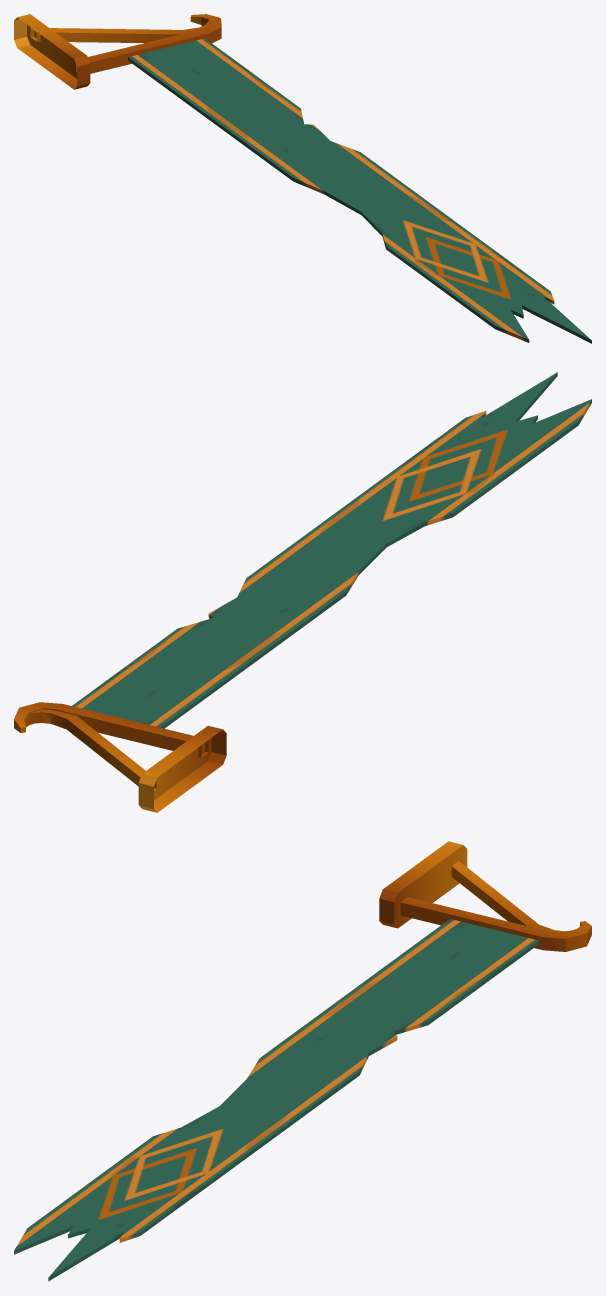
Rendered from Wall Flag 02.FBX.
3 renders of one model, top to bottom at view 1: azimuth 30°, elevation 25°; view 2: azimuth 150°, elevation 25°; view 3: azimuth 330°, elevation 25°, orthographic. The views are drawn at different scales.
Visible parts, largest first — view 1: Wall Flag 02; view 2: Wall Flag 02; view 3: Wall Flag 02.
Boxes of the visible parts, x1=… form: Wall Flag 02: x1=14, y1=14, x2=591, y2=343; Wall Flag 02: x1=14, y1=372, x2=591, y2=812; Wall Flag 02: x1=14, y1=841, x2=591, y2=1281.
Bounding box in the file's own units: 98.39 × 17.87 × 488.
